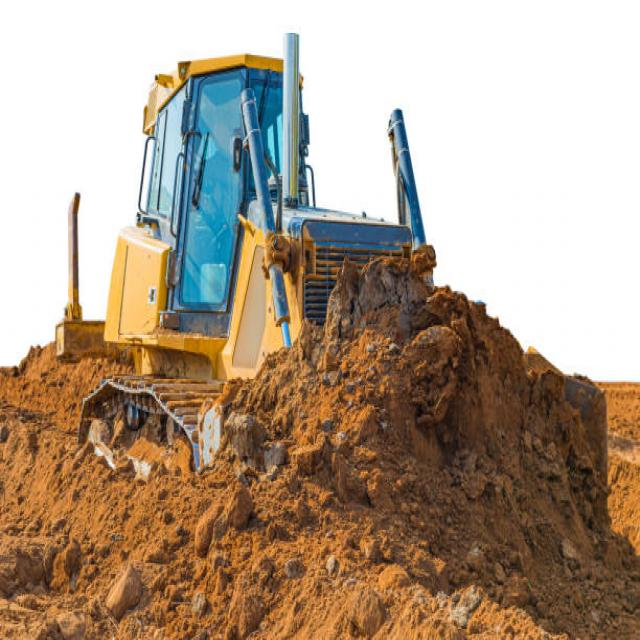Bulldozer: (57, 30, 442, 483)
